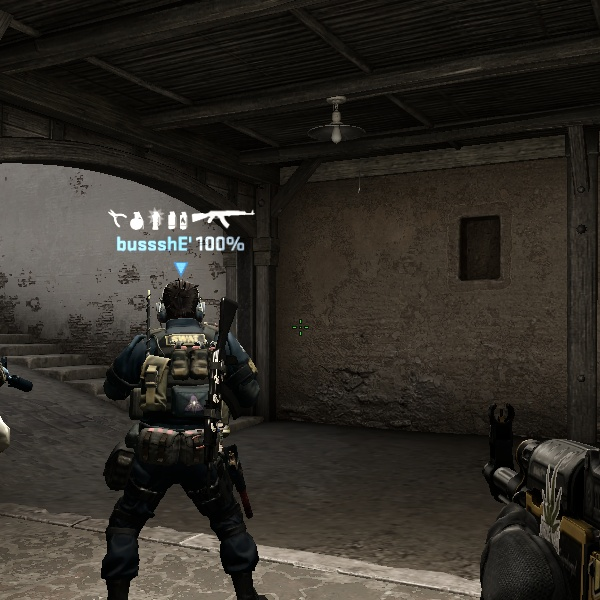ct_body: (85, 270, 289, 597)
ct_head: (141, 271, 226, 334)
t_head: (560, 463, 598, 510)
